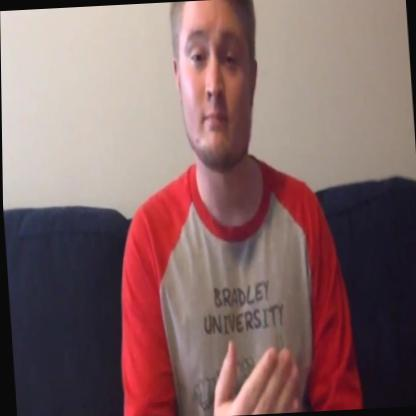ThankYou: (164, 0, 311, 416)
